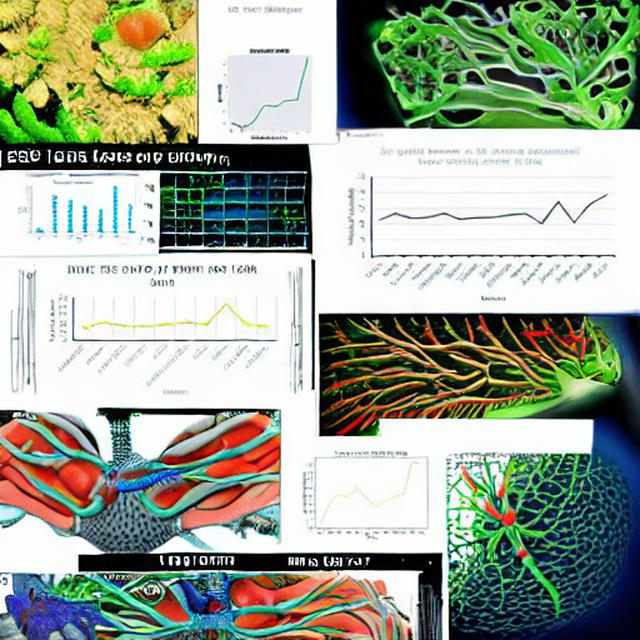Graph: (341, 141, 621, 308), (41, 258, 284, 404), (297, 438, 442, 547), (202, 43, 334, 142), (13, 178, 126, 244)
